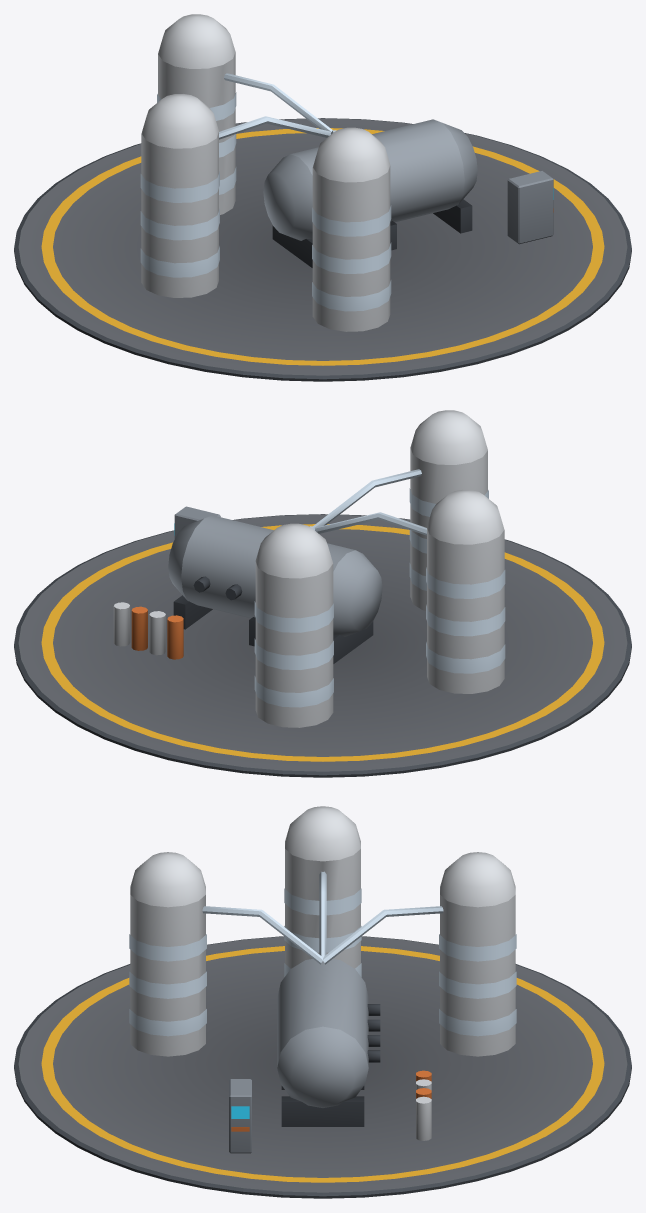
The model's file is he3_separator.glb.
3 views of the same model, one above another, from view 1: azimuth 30°, elevation 25°; view 2: azimuth 150°, elevation 25°; view 3: azimuth 270°, elevation 25° (orthographic).
Visible parts, largest first — view 1: Base; view 2: Base; view 3: Base.
Boxes of the visible parts, left/top/right/bottom form: Base: left=14, top=14, right=631, bottom=381; Base: left=14, top=410, right=631, bottom=777; Base: left=14, top=806, right=631, bottom=1198.
Bounding box in the file's own units: 13.5 × 4.55 × 13.5.
